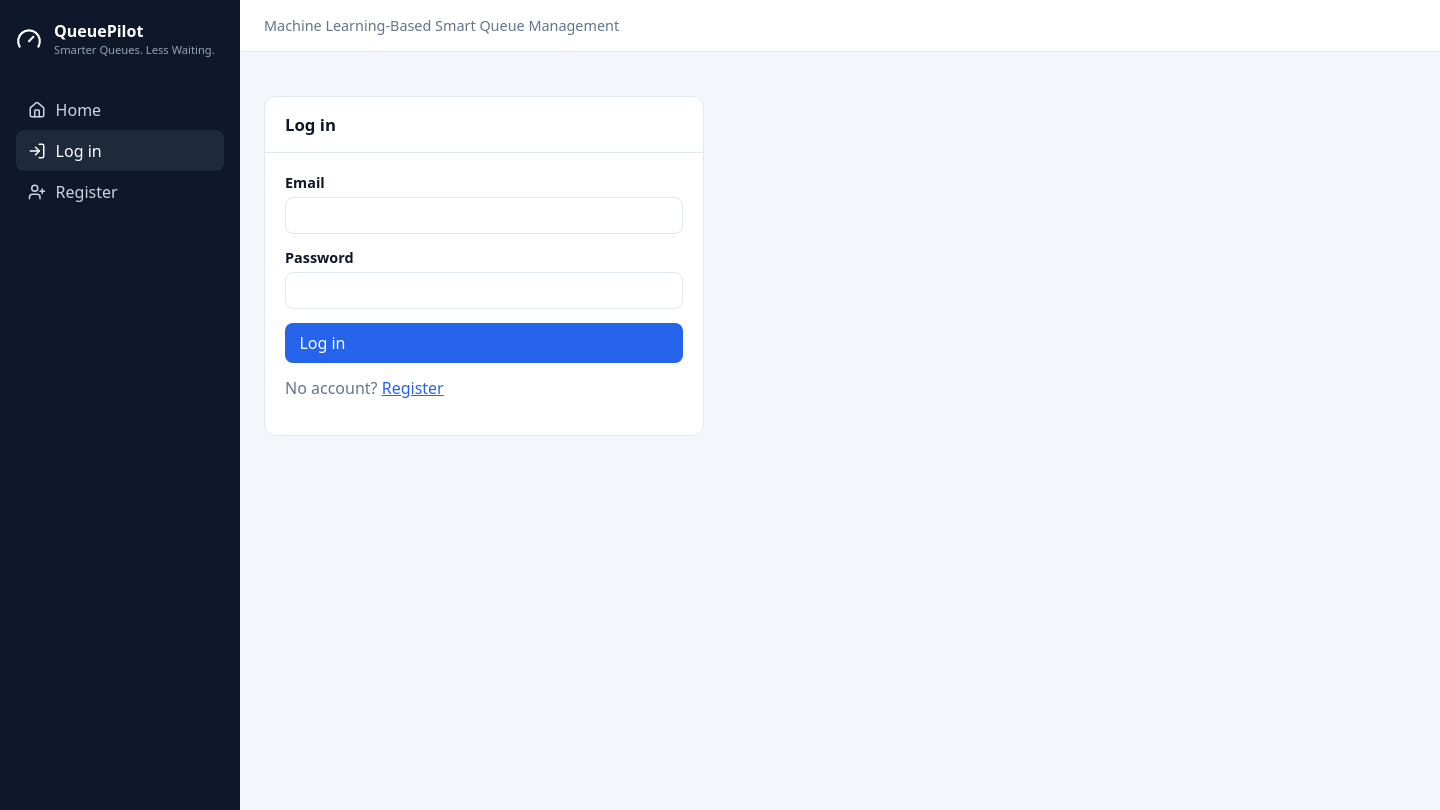
Test: failed login shows the server message and does not store a token
This screenshot has width=1440, height=810.
In the field labelled "Email": (484,215) [285,197,683,234], type "x@example.com"
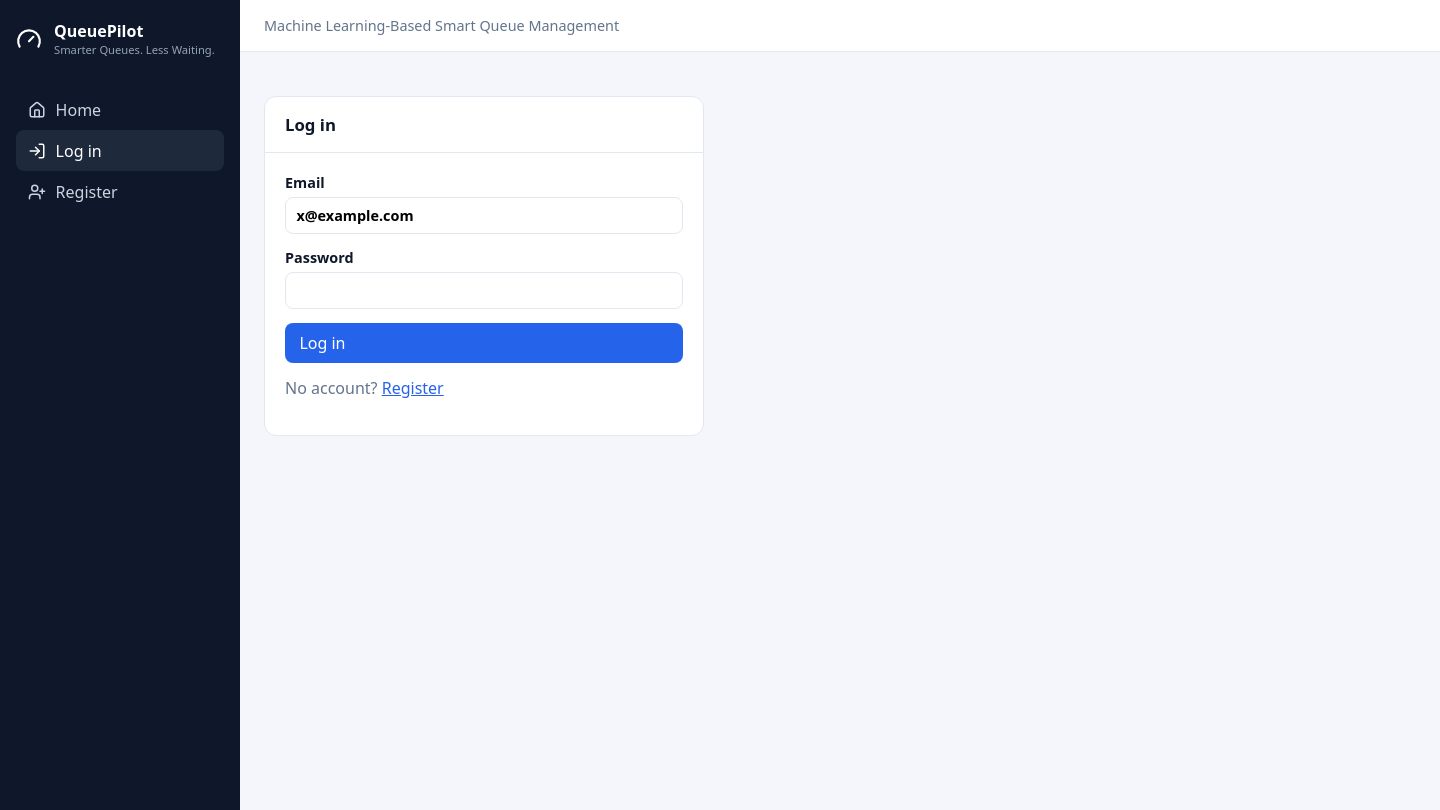
In the password field labelled "Password": (484,290) [285,272,683,309], type "nope"
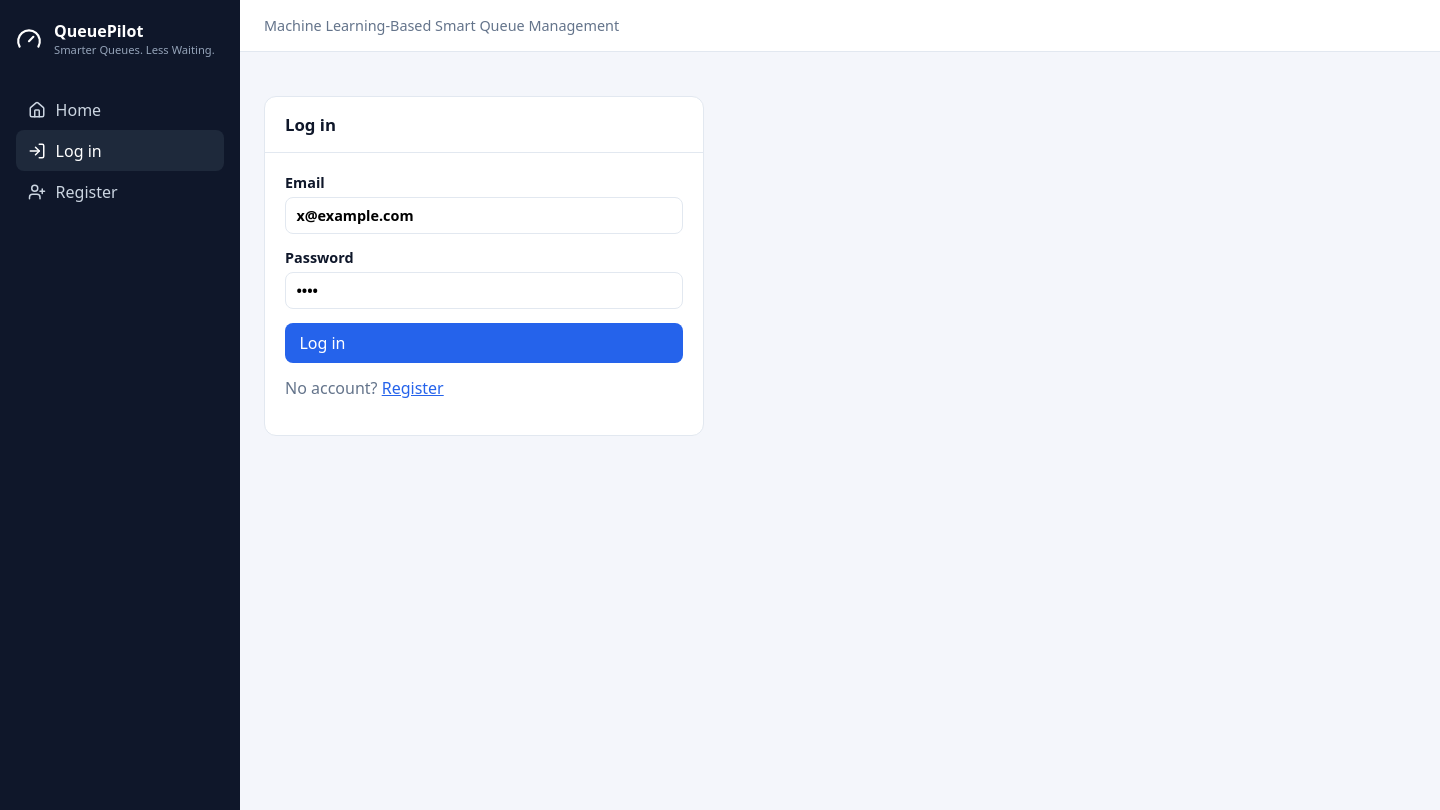
Click the button "Log in": (322,343) [285,323,683,363]
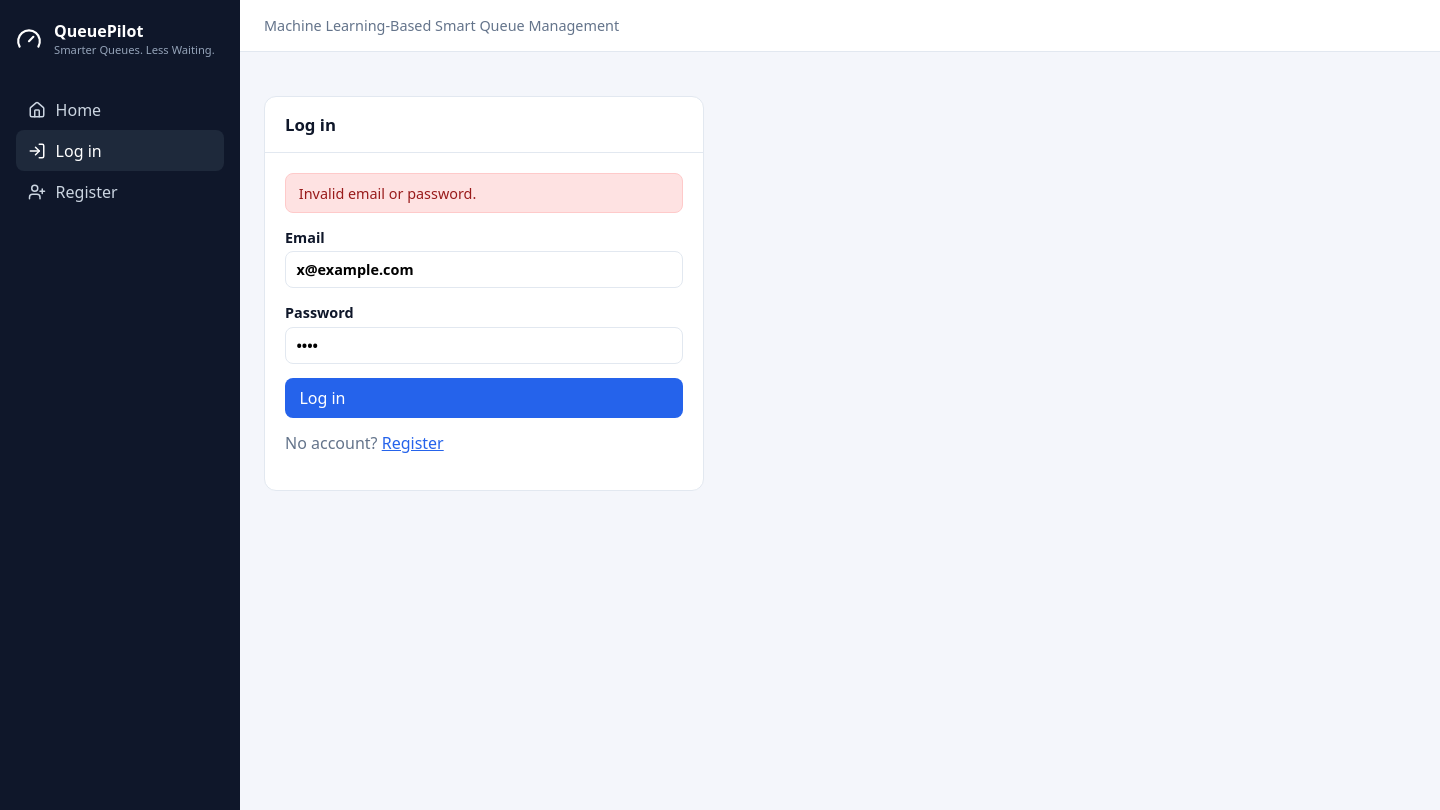
Check: the message reads "Invalid email or password.", box [299,184,476,203]
